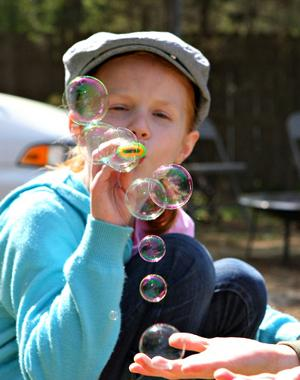person: (1, 31, 300, 380)
